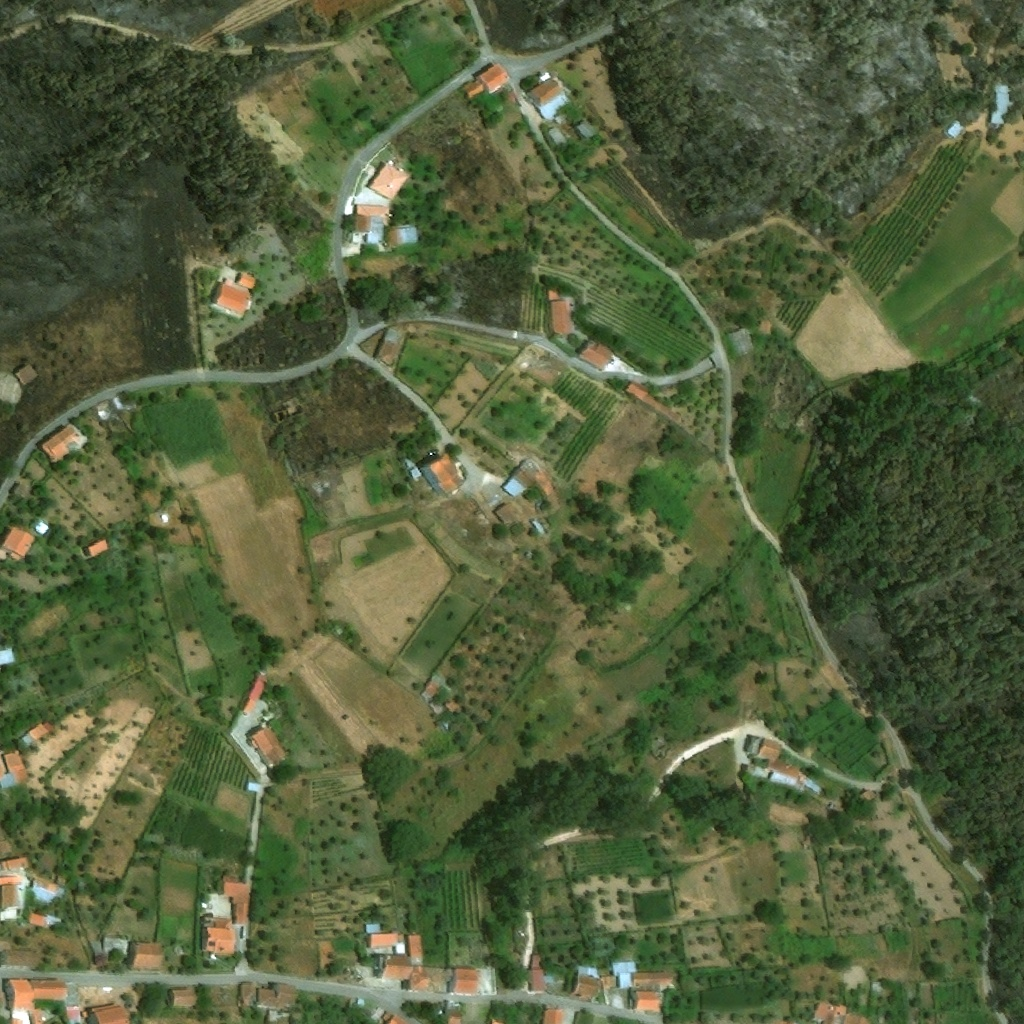0 no-damage: (376, 933, 491, 996), (742, 760, 823, 799), (7, 978, 68, 1023), (235, 980, 295, 1019), (212, 272, 258, 317), (419, 451, 464, 496), (526, 71, 568, 119), (38, 424, 87, 462), (246, 724, 285, 768), (577, 338, 626, 373), (809, 997, 872, 1023), (463, 63, 510, 97), (366, 163, 407, 201), (129, 940, 179, 968), (222, 878, 251, 926), (615, 970, 674, 993), (0, 524, 36, 560), (517, 461, 556, 494), (569, 964, 602, 1001), (350, 213, 388, 244), (240, 674, 268, 716), (201, 919, 235, 953), (0, 875, 25, 919), (0, 750, 28, 789), (500, 466, 534, 497), (32, 873, 66, 904), (363, 932, 406, 956), (987, 83, 1009, 125), (87, 1003, 129, 1023), (548, 300, 571, 336), (626, 990, 659, 1013), (0, 949, 39, 968), (383, 226, 416, 248), (527, 956, 547, 992), (168, 984, 199, 1007), (20, 721, 48, 746), (374, 340, 399, 367), (28, 910, 63, 929), (730, 327, 754, 354), (0, 855, 29, 877), (755, 739, 782, 761), (420, 676, 443, 701), (493, 501, 516, 523), (83, 537, 107, 558), (101, 935, 126, 955), (610, 960, 639, 977), (13, 363, 36, 384), (624, 381, 650, 399), (352, 204, 389, 216), (574, 119, 596, 139), (8, 482, 30, 500), (0, 826, 12, 858), (547, 126, 566, 146), (382, 326, 403, 344), (29, 517, 50, 535), (36, 854, 58, 870), (530, 517, 548, 536), (380, 1010, 405, 1023), (543, 1008, 563, 1023), (745, 737, 760, 756), (948, 119, 963, 138), (428, 699, 444, 716), (243, 778, 260, 793), (547, 289, 570, 300), (0, 648, 14, 666), (96, 400, 112, 414), (365, 923, 383, 935), (757, 321, 771, 336), (407, 465, 421, 479), (445, 699, 457, 713), (870, 982, 881, 992), (77, 880, 86, 891), (448, 1015, 460, 1023), (160, 513, 169, 521)
4 un-classified: (8, 1016, 23, 1023)
